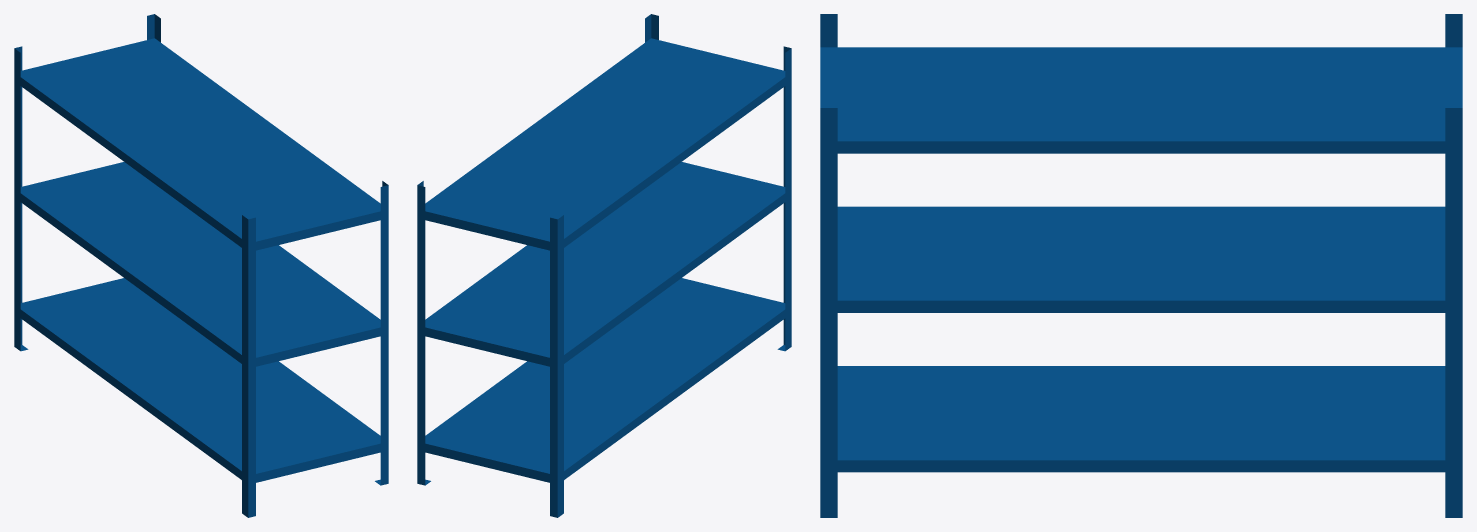
Rendered from estante_2.obj.
3 renders of one model, left to right at view 1: azimuth 30°, elevation 25°; view 2: azimuth 150°, elevation 25°; view 3: azimuth 270°, elevation 25°, orthographic. The views are drawn at different scales.
Parts seen in each view (by area): view 1: Cubo.003_Cubo; view 2: Cubo.003_Cubo; view 3: Cubo.003_Cubo.
Boxes of the visible parts, x1=… form: Cubo.003_Cubo: x1=14, y1=14, x2=388, y2=517; Cubo.003_Cubo: x1=417, y1=14, x2=791, y2=517; Cubo.003_Cubo: x1=820, y1=14, x2=1462, y2=517.
Size of the model in its own units: 1.47 by 2.98 by 4.23.
